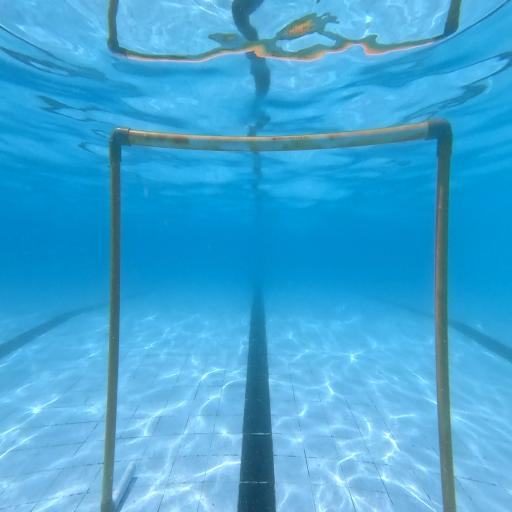gate: (100, 116, 456, 512)
